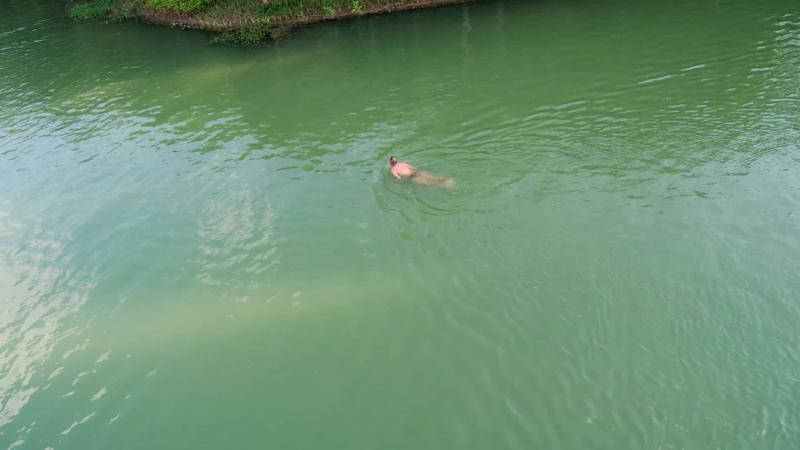swimmers: (387, 155, 462, 190)
